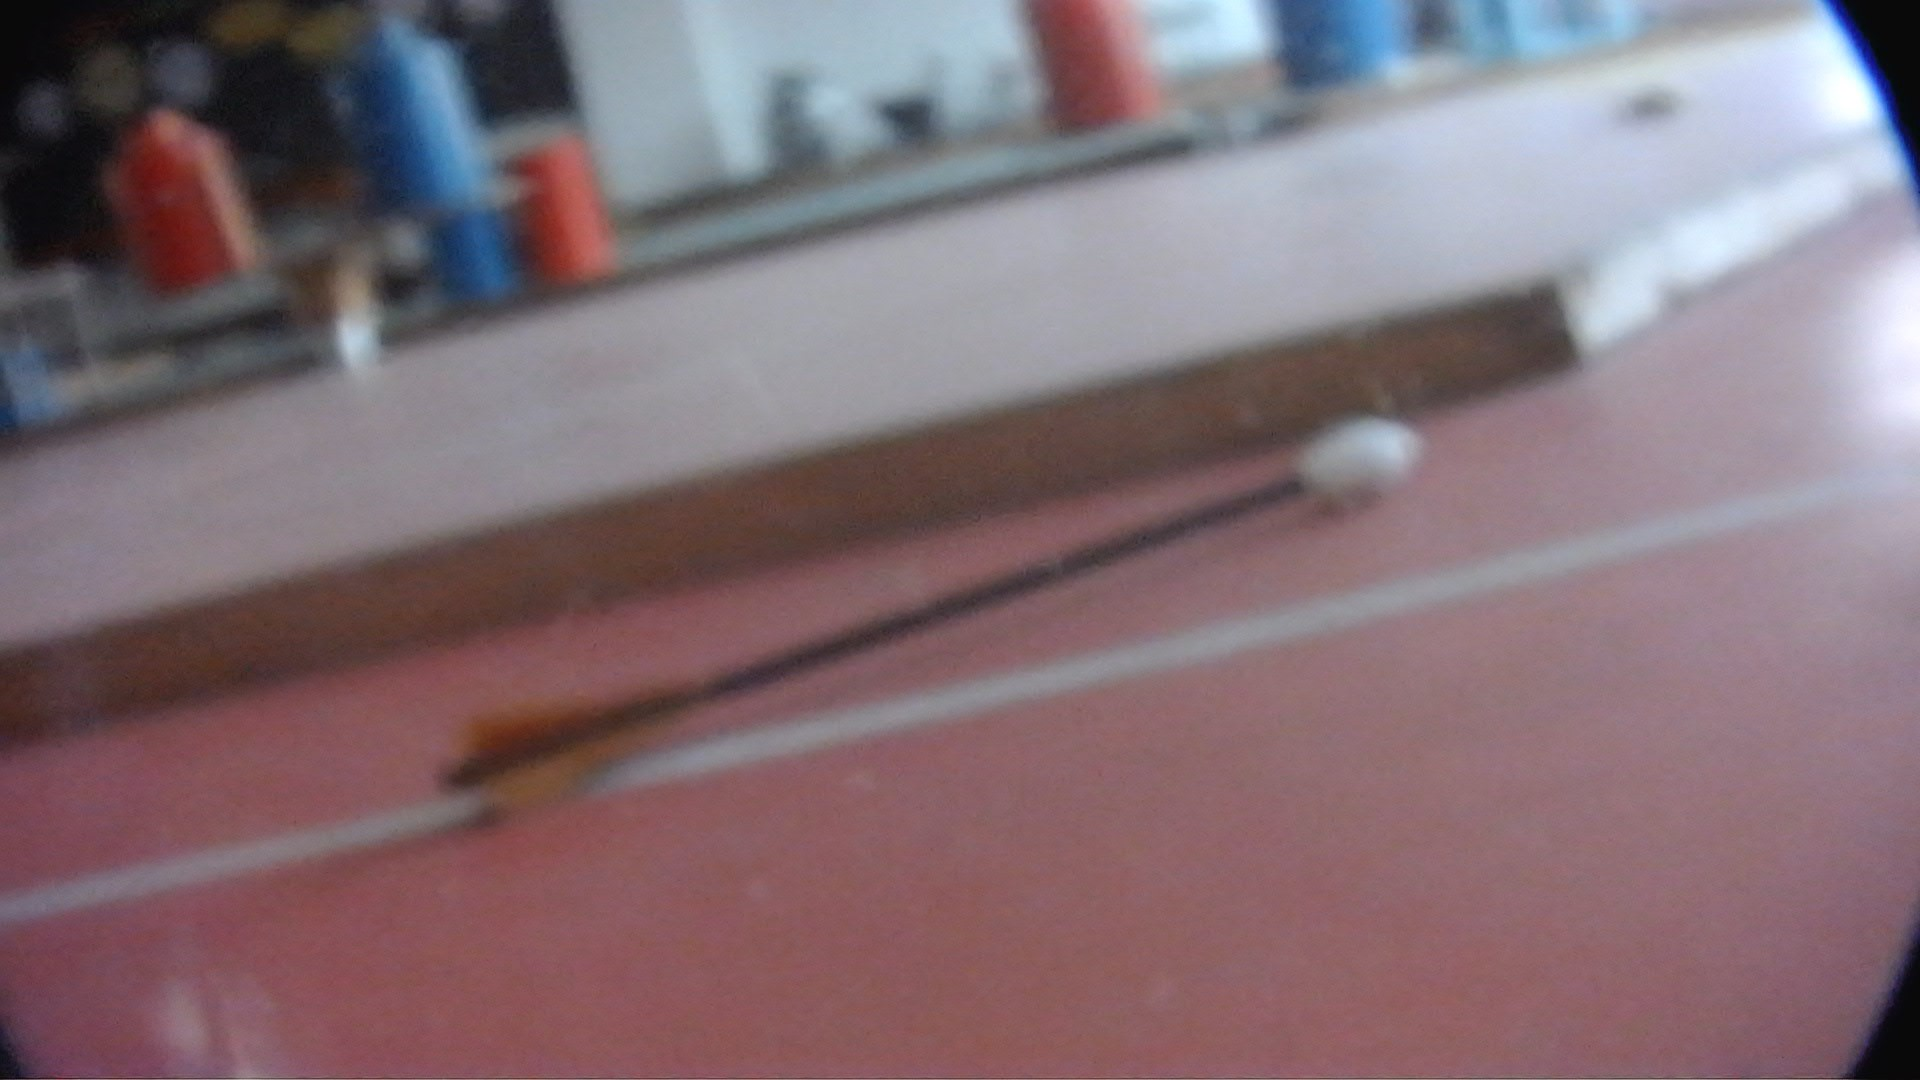arrow: (438, 415, 1425, 822)
arrowFront: (1283, 414, 1424, 509)
